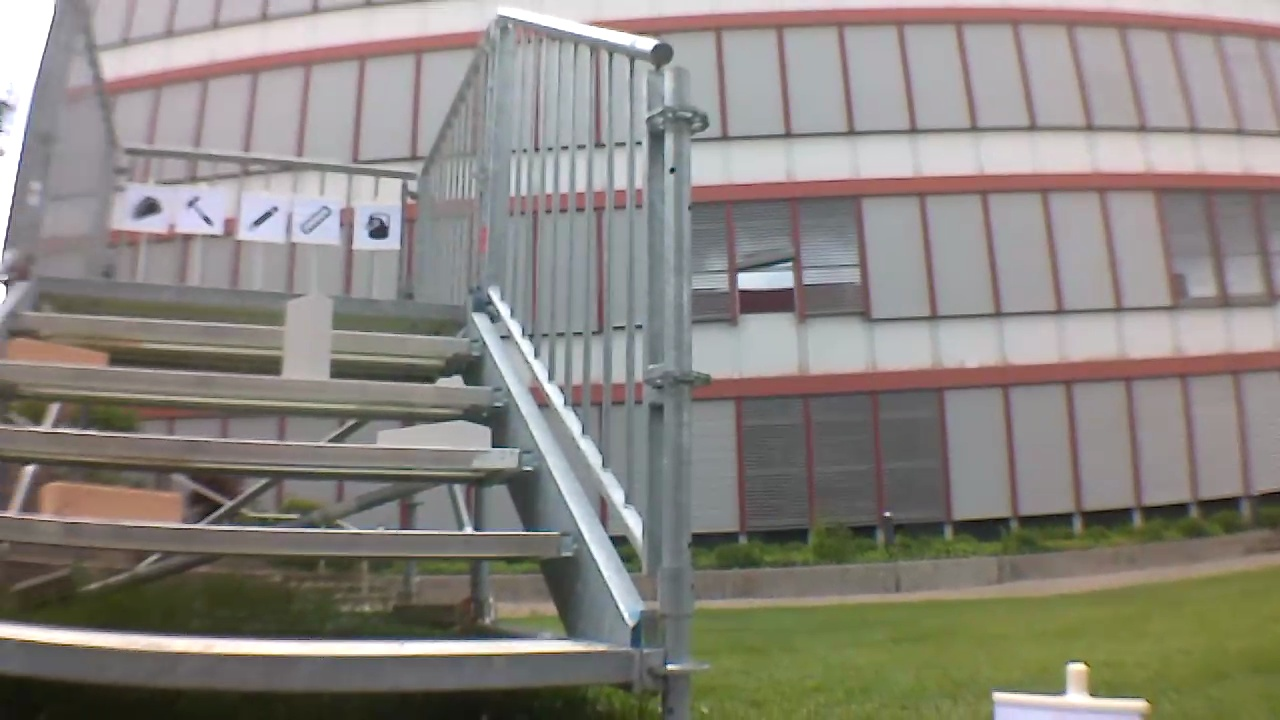brick: (39, 483, 179, 524), (284, 296, 329, 380), (6, 339, 104, 371), (379, 422, 489, 450)
bucket: (358, 208, 396, 244)
edge: (3, 638, 628, 688), (1, 515, 578, 557), (2, 427, 534, 469), (0, 361, 506, 405), (14, 311, 483, 357), (39, 275, 462, 321)
hammer: (182, 192, 218, 231)
pencil: (245, 201, 281, 238)
ruler: (298, 202, 335, 240)
stairs: (5, 4, 704, 717)
steps: (9, 270, 632, 696)
taco: (128, 192, 163, 225)
